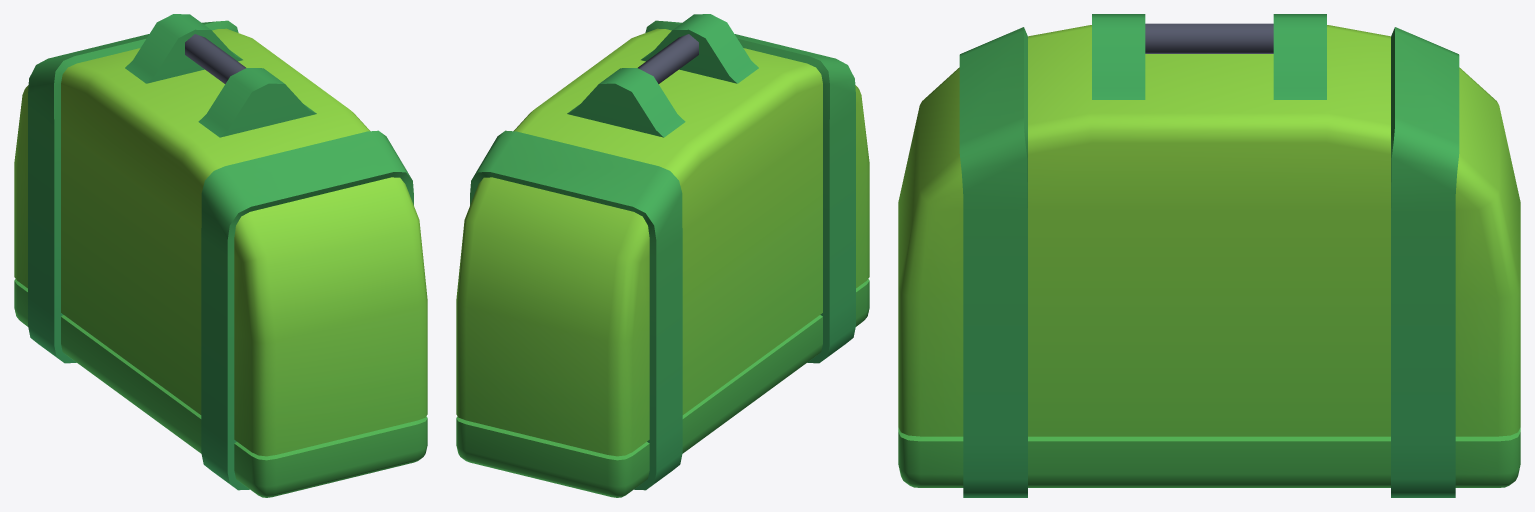
File: Bag_3.FBX
The picture shows the model from 3 angles, left to right: view 1: azimuth 30°, elevation 25°; view 2: azimuth 150°, elevation 25°; view 3: azimuth 270°, elevation 25°; orthographic projection. The views are drawn at different scales.
Parts seen in each view (by area): view 1: Bag_3; view 2: Bag_3; view 3: Bag_3.
Part boxes in pixels (<box>): Bag_3: <box>14,14,427,497</box>; Bag_3: <box>456,14,869,497</box>; Bag_3: <box>898,14,1520,497</box>.
Size of the model in its own units: 15.91 by 28.6 by 37.29.
1 material, 1 textured.
